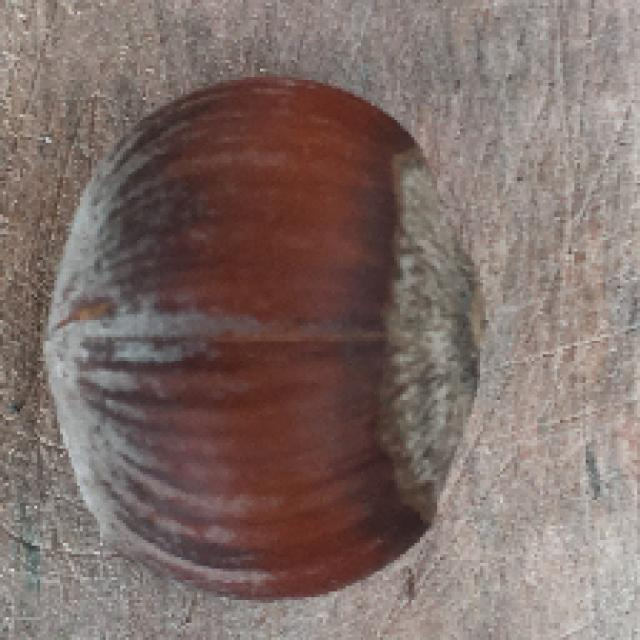damagedHazelnut: (65, 71, 488, 599)
